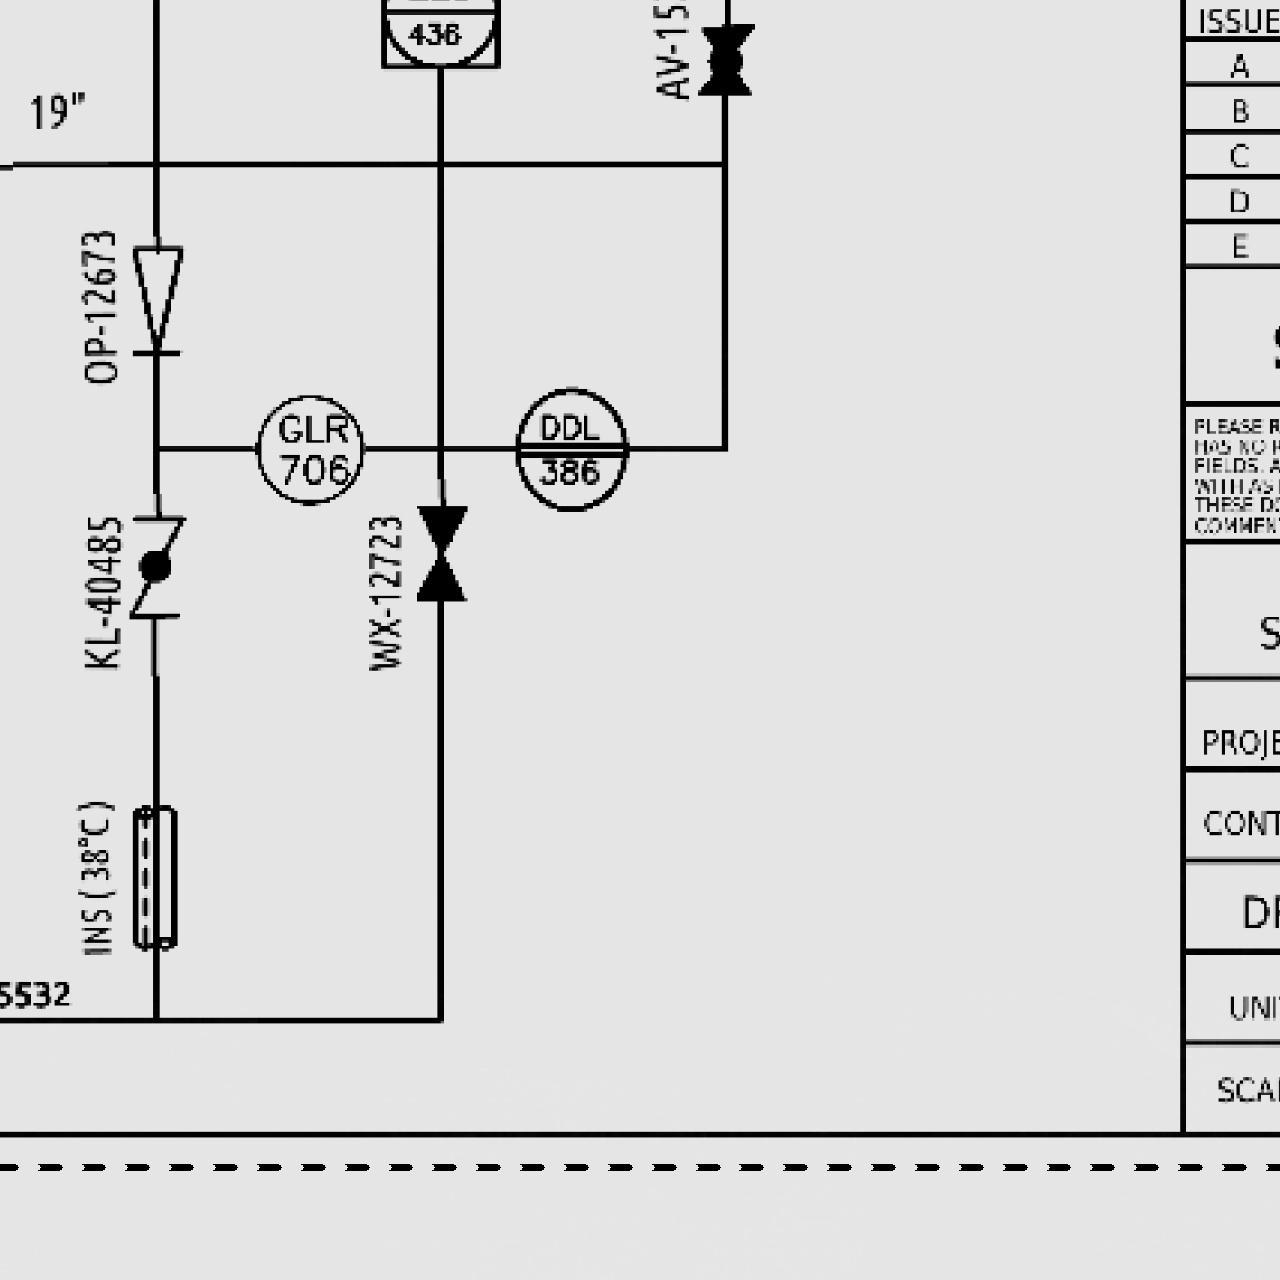Control-Panel: (505, 383, 636, 515)
